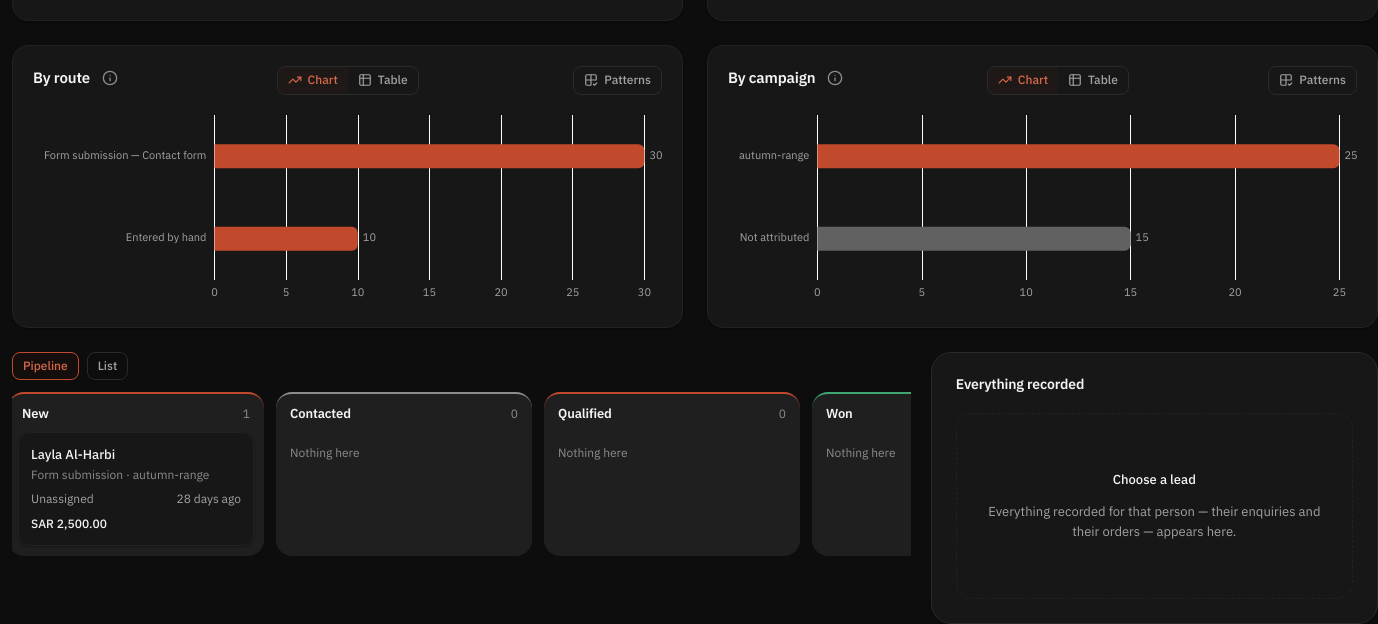
Test: the Lead Center › marks a hand-entered route as not measured
(page scrolled)
Step 1. Click the button "List" → (108, 366), box [87,352,128,380]
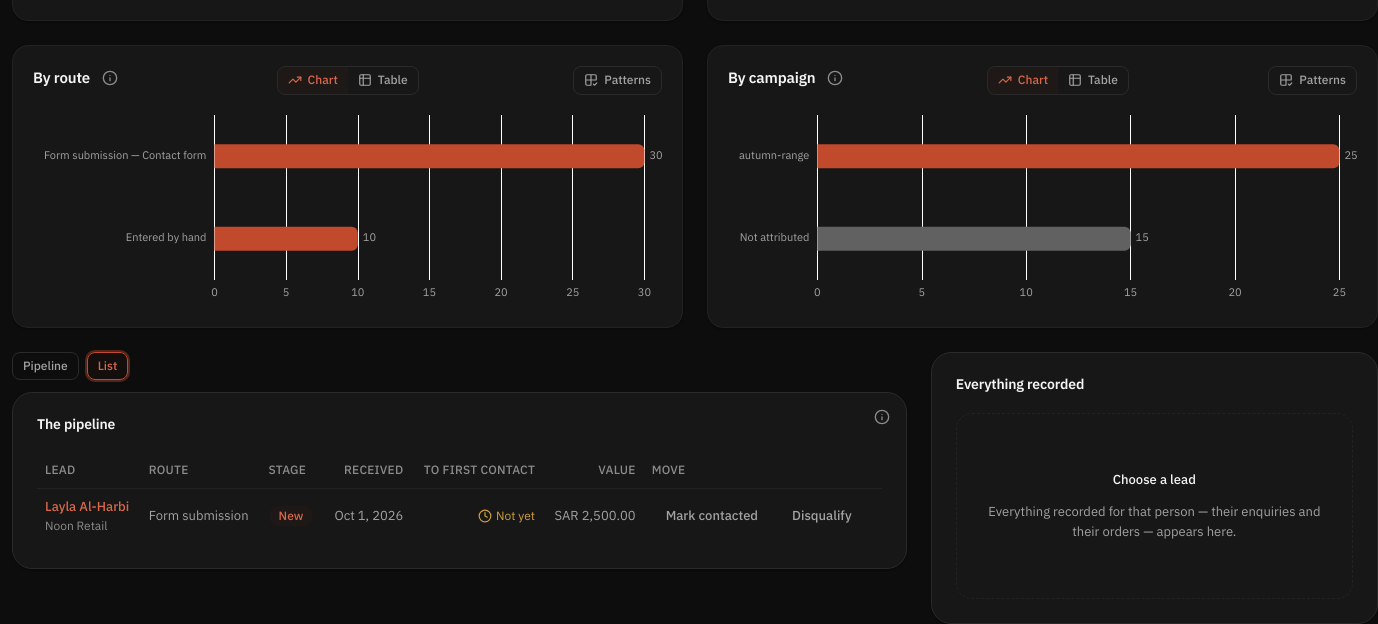
Step 2. Click the button "Table" in the row of "By route" → (383, 80), box [348,67,418,94]
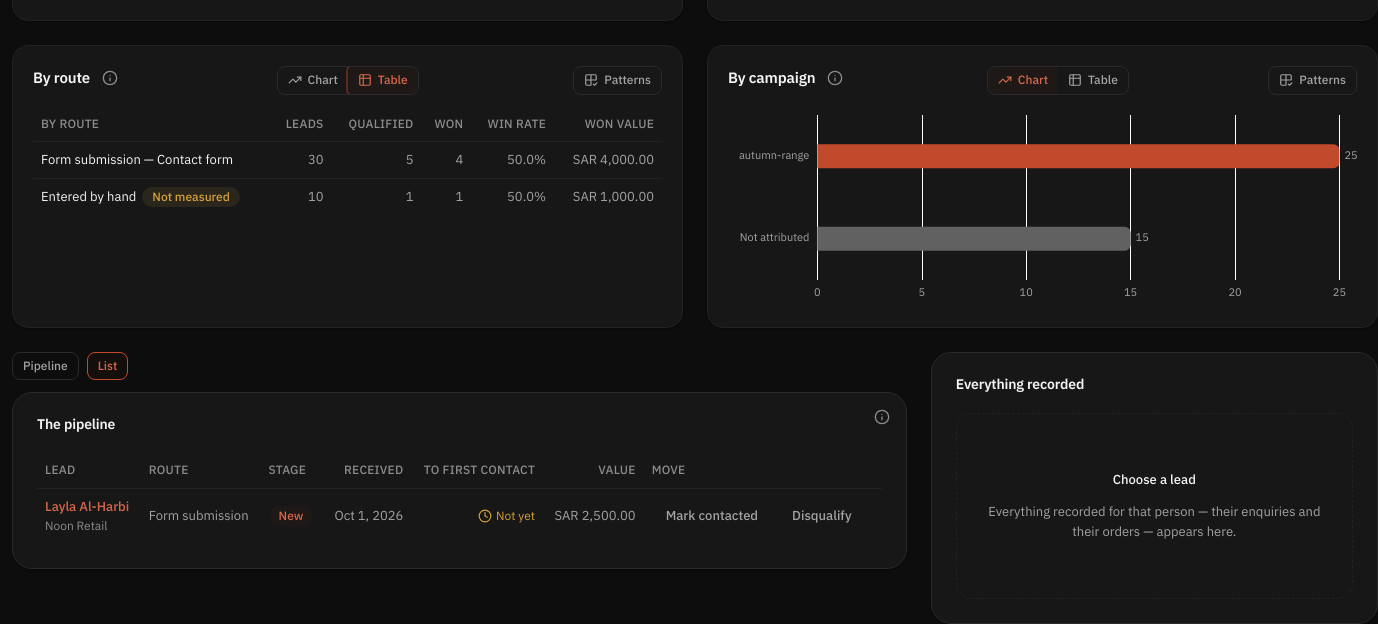
Expected: the text "Not measured" is shown, [142,188,240,208]
